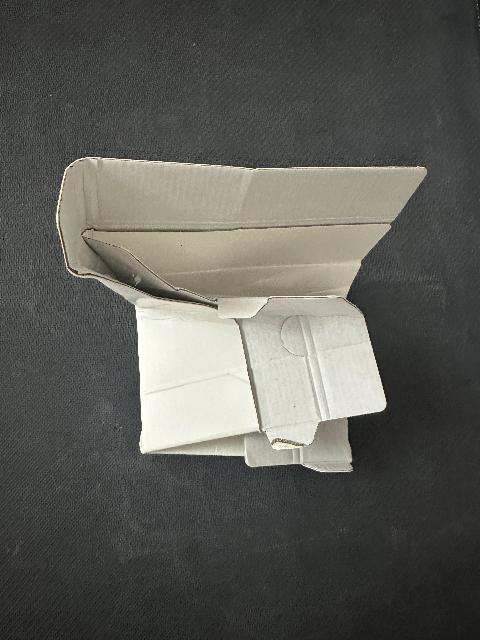Kagit: (51, 154, 429, 479)
